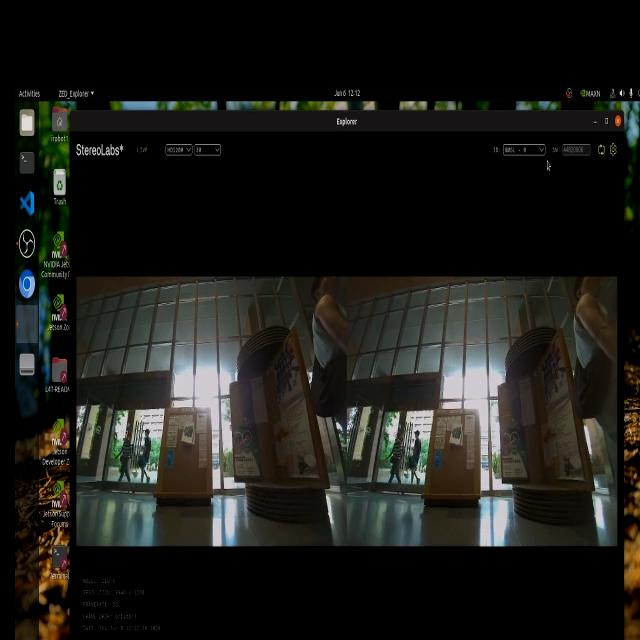green: (183, 422, 196, 448), (452, 427, 462, 453)
